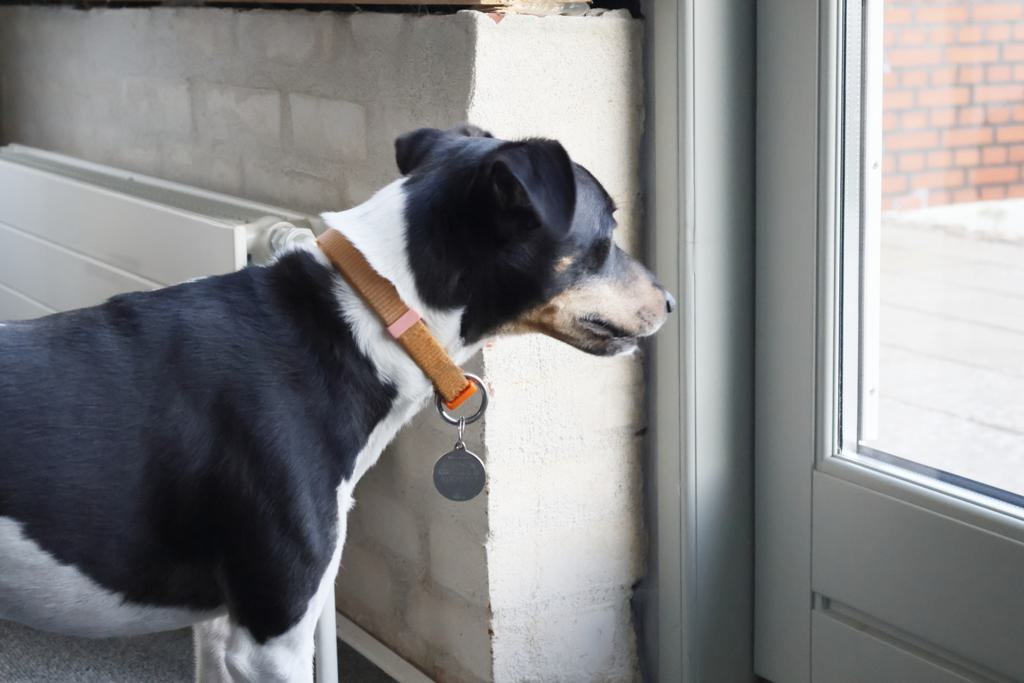Dog: (0, 113, 679, 683)
